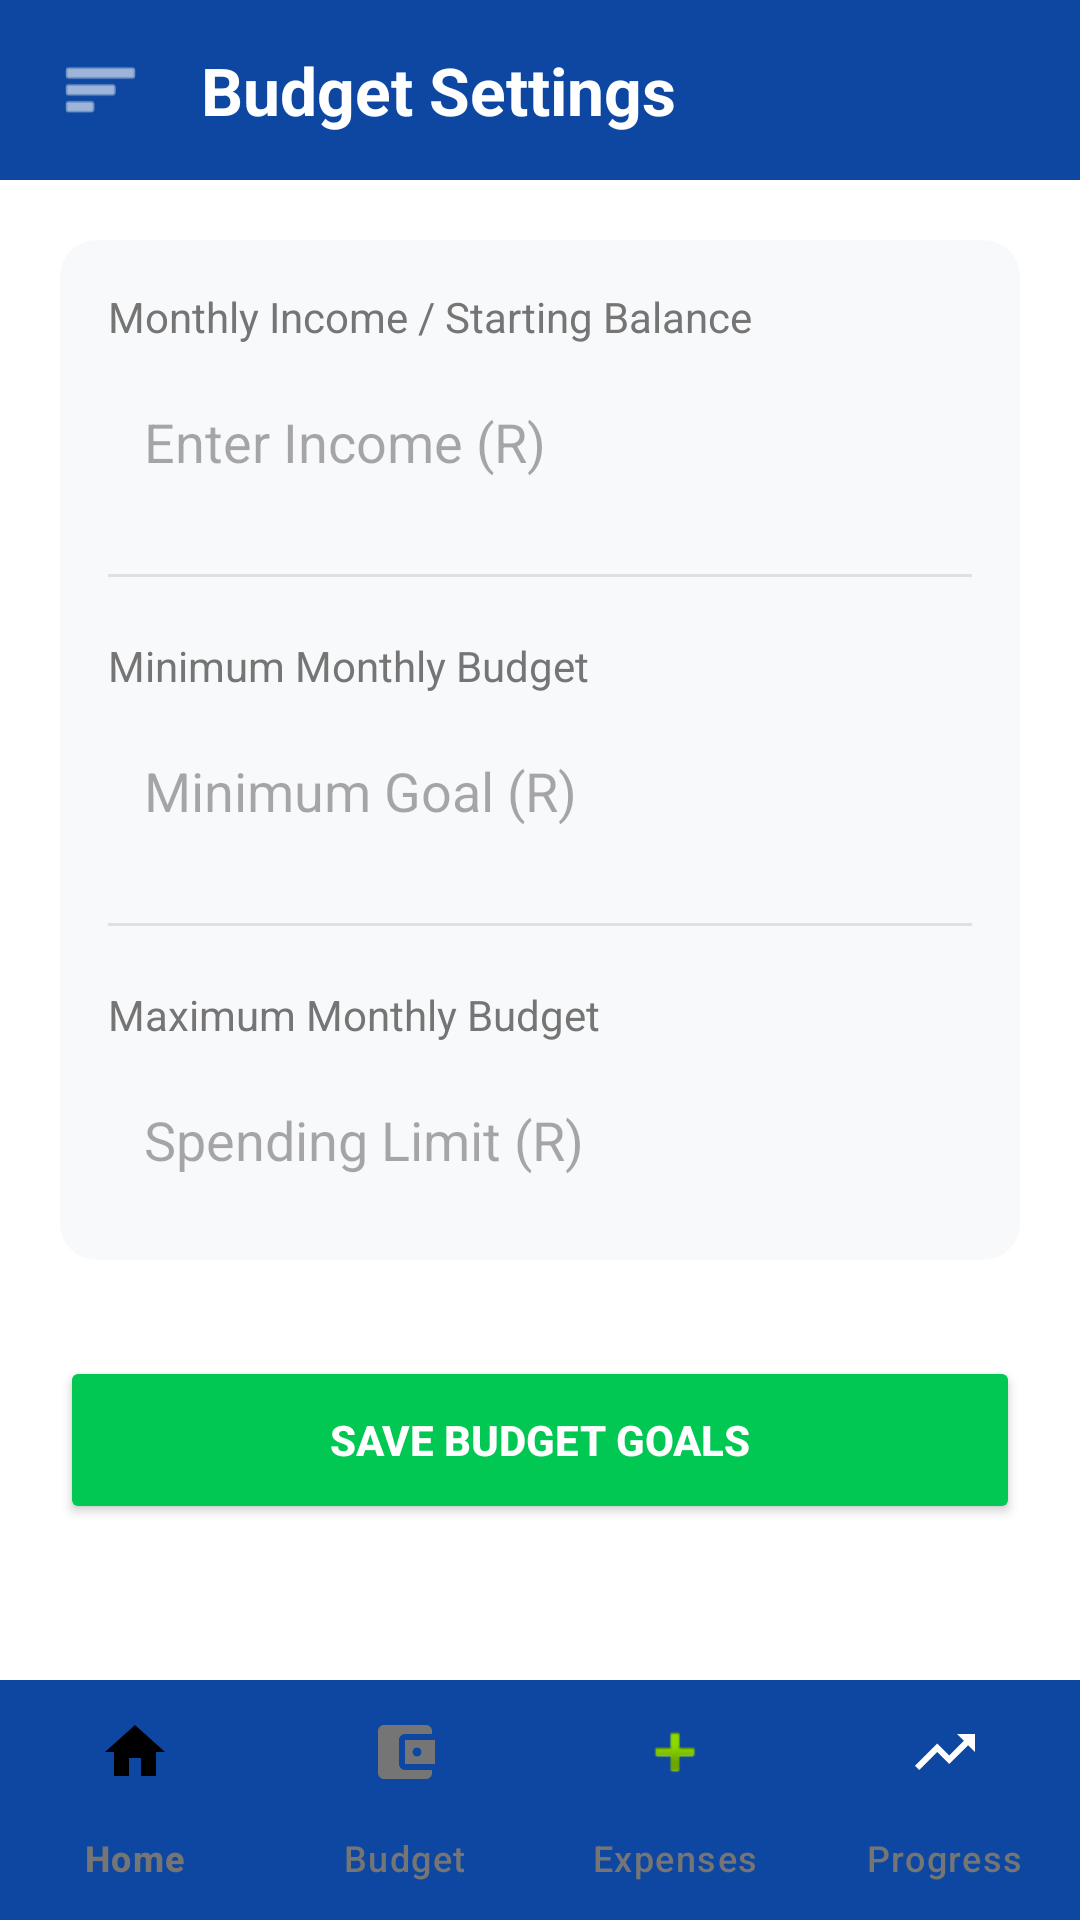

Screen size 1080 x 1920. Icon name, then its box in pixels as (x1, y1, x2, y2):
Menu: (66, 67, 135, 113)
